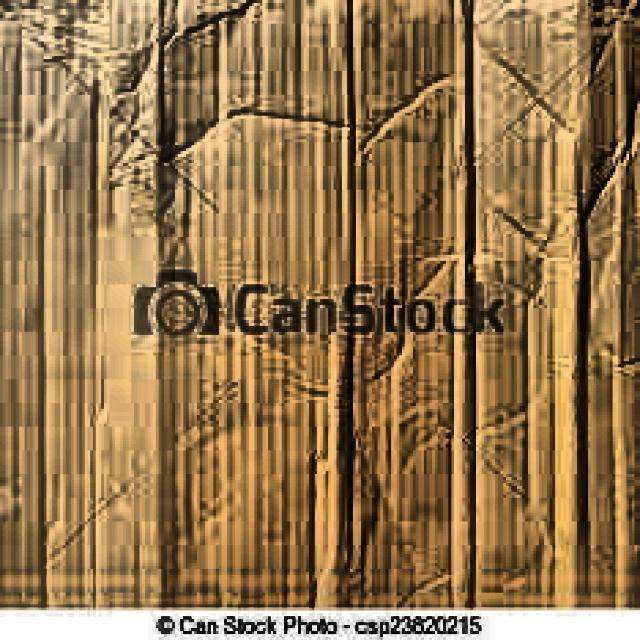cardboard: (0, 0, 637, 607)
